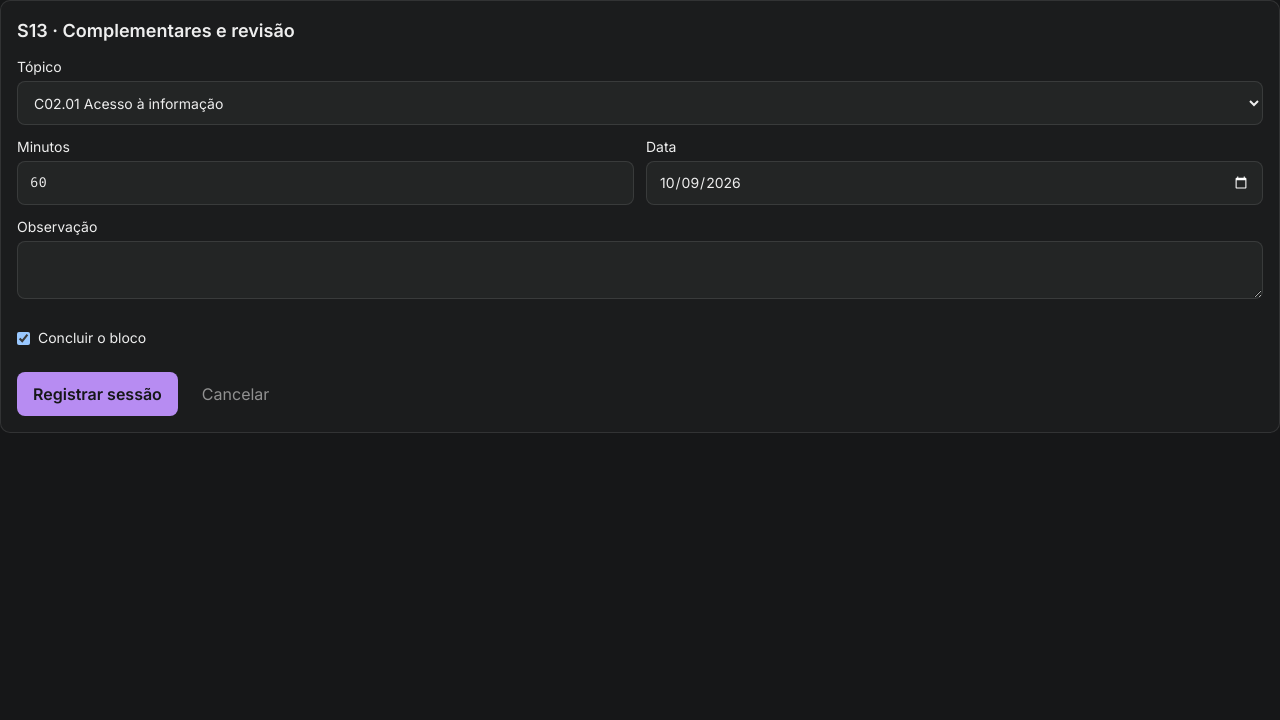
Scenario: SessionForm › mostra erros de campo do servidor
Click the button "Registrar sessão".
click(97, 394)  # box [17,372,178,416]
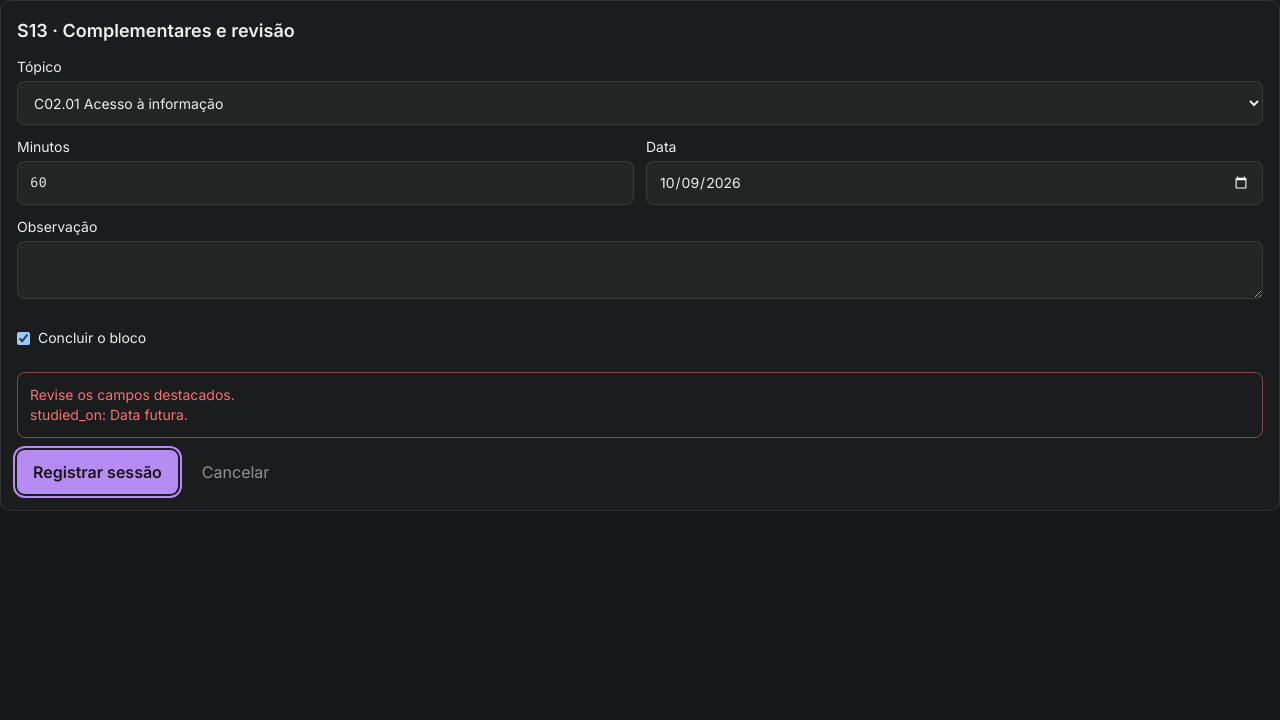
expect the message shows "studied_on: Data futura.": met, box [17,372,1263,438]
